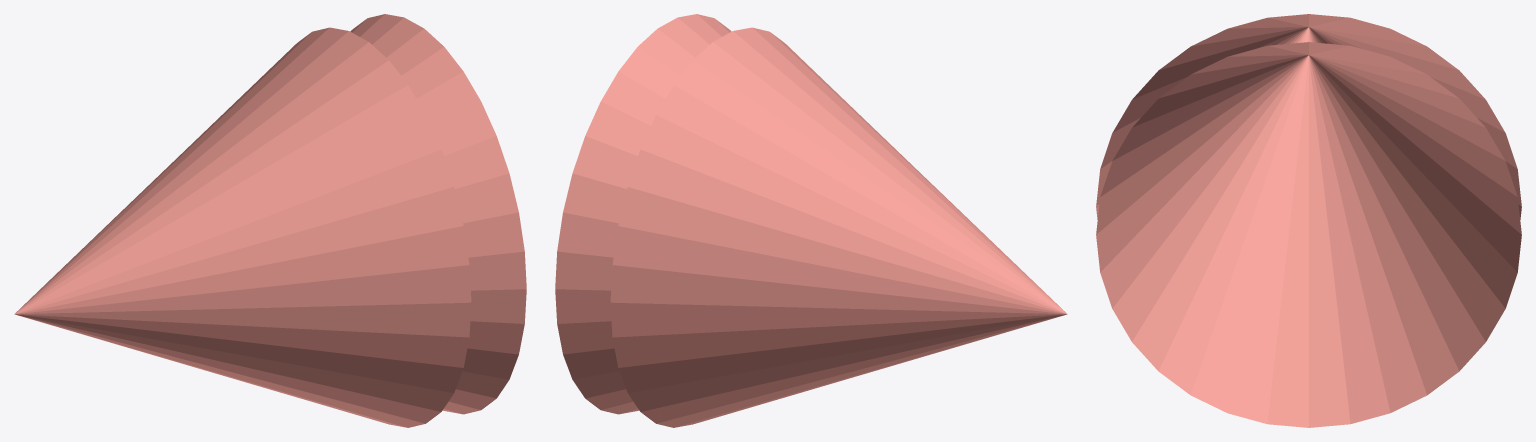
The model's file is Rocket_exhaust.glb.
3 views of the same model, side by side, from view 1: azimuth 30°, elevation 25°; view 2: azimuth 150°, elevation 25°; view 3: azimuth 270°, elevation 25° (orthographic). The views are drawn at different scales.
Parts seen in each view (by area): view 1: fireCone; view 2: fireCone; view 3: fireCone.
Part boxes in pixels (x1,y1,x2,y2): fireCone: (14, 14, 526, 427); fireCone: (555, 14, 1067, 427); fireCone: (1096, 14, 1521, 427).
Size of the model in its own units: 8.89 by 7.69 by 7.69.
Materials: 1 (1 with a texture image).
